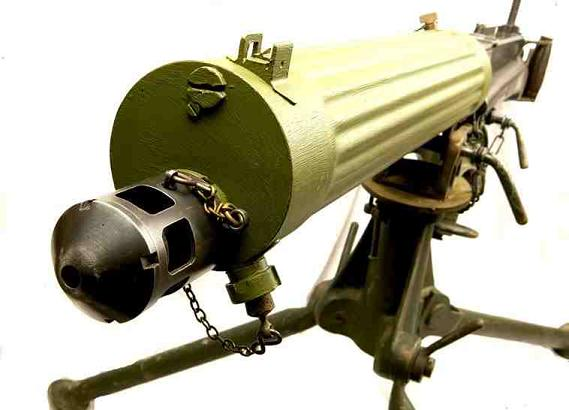rifle: (30, 21, 530, 404)
